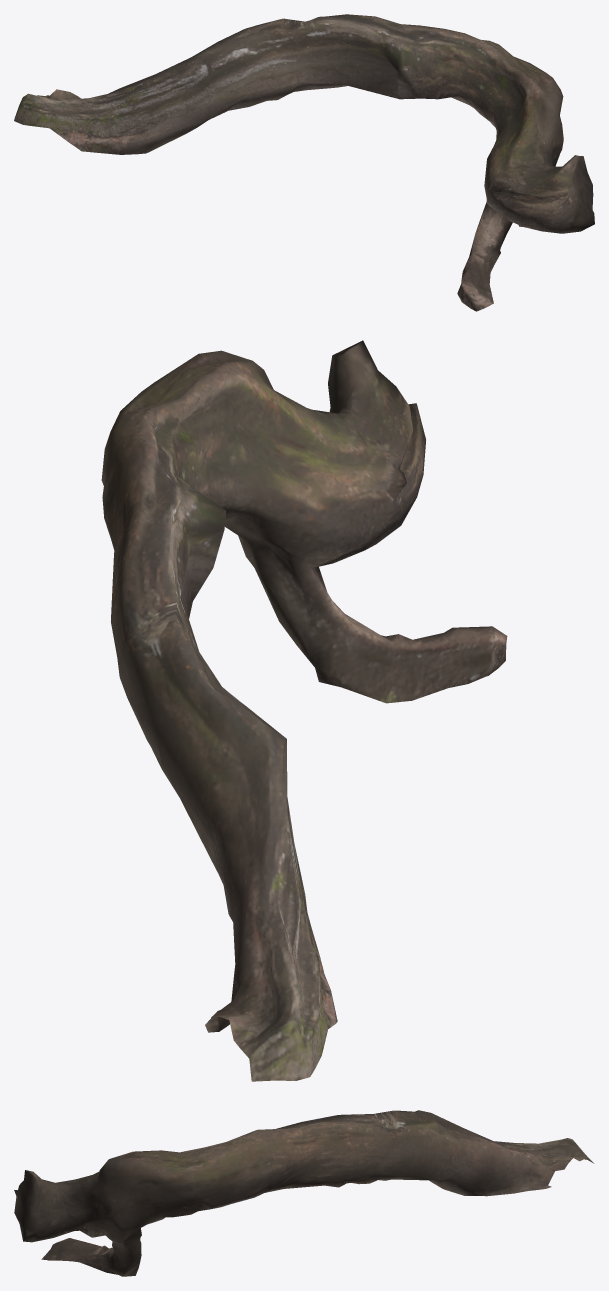
The model's file is SM_Roots_01_03.fbx.
3 views of the same model, one above another, from view 1: azimuth 30°, elevation 25°; view 2: azimuth 150°, elevation 25°; view 3: azimuth 270°, elevation 25° (orthographic). The views are drawn at different scales.
Parts seen in each view (by area): view 1: sm_Roots_01_03_LOD0; view 2: sm_Roots_01_03_LOD0; view 3: sm_Roots_01_03_LOD0.
Boxes of the visible parts, x1,y1,x2,y2 form: sm_Roots_01_03_LOD0: (14, 14, 594, 311); sm_Roots_01_03_LOD0: (101, 340, 507, 1081); sm_Roots_01_03_LOD0: (14, 1110, 594, 1276).
Bounding box in the file's own units: 89.75 × 51.68 × 28.87.
